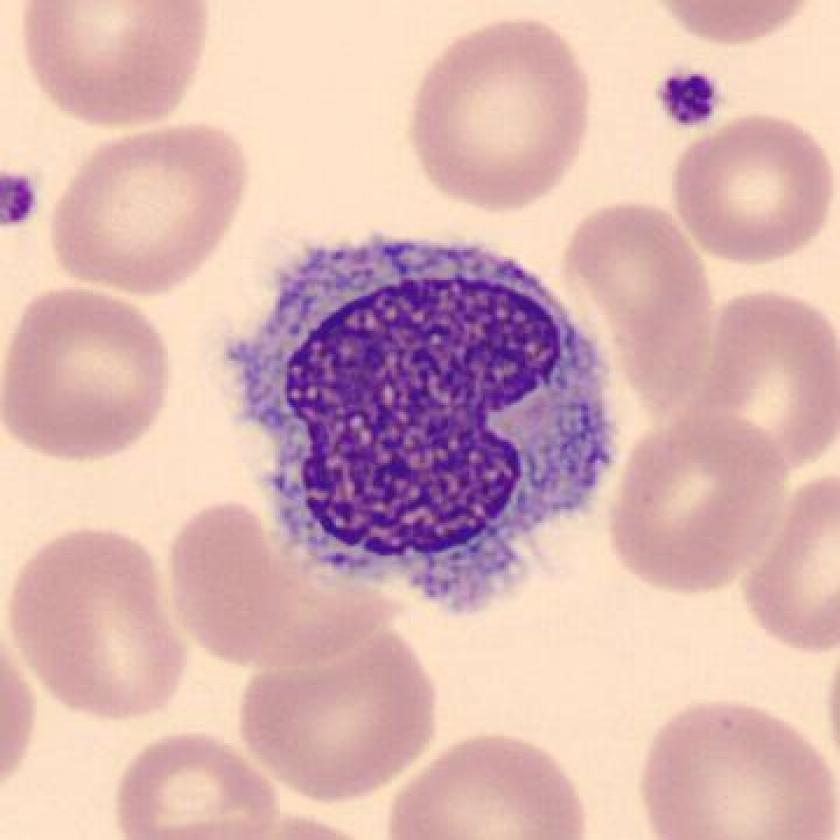monocyte: (218, 205, 636, 637)
